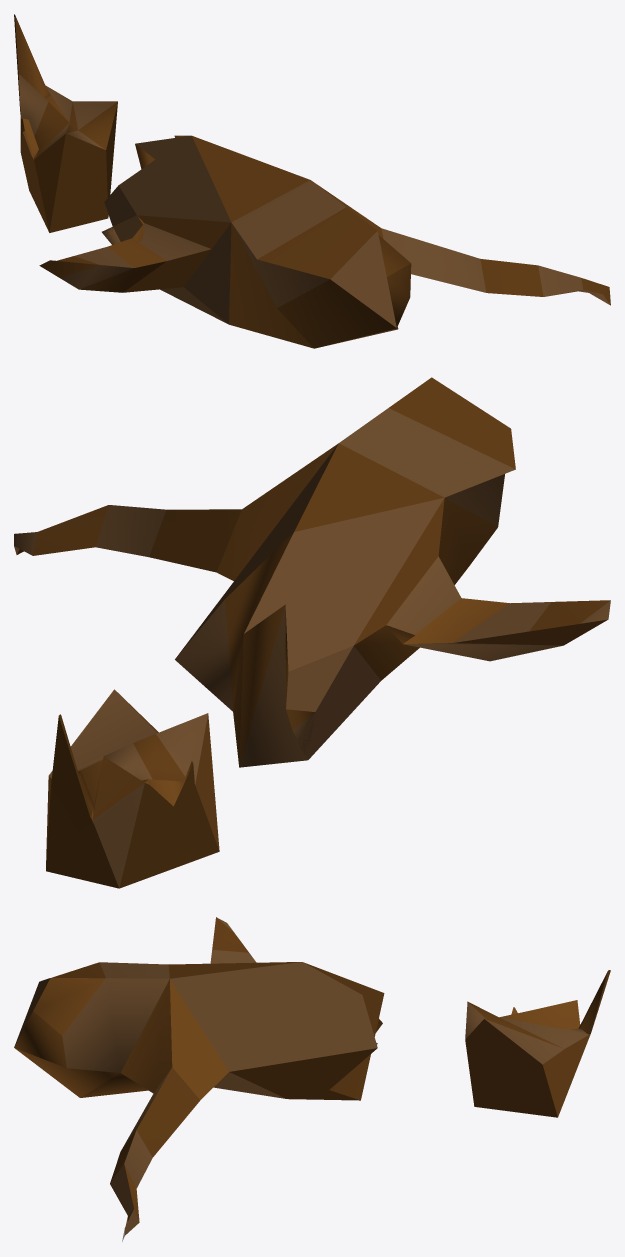
File: bear_tree.fbx
3 views of the same model, one above another, from view 1: azimuth 30°, elevation 25°; view 2: azimuth 150°, elevation 25°; view 3: azimuth 270°, elevation 25° (orthographic). The views are drawn at different scales.
Parts seen in each view (by area): view 1: tree_top, tree_base; view 2: tree_top, tree_base; view 3: tree_top, tree_base.
Boxes of the visible parts, x1=… form: tree_top: x1=39, y1=135, x2=610, y2=348; tree_base: x1=14, y1=14, x2=117, y2=232; tree_top: x1=14, y1=377, x2=610, y2=767; tree_base: x1=46, y1=689, x2=219, y2=888; tree_top: x1=14, y1=917, x2=384, y2=1241; tree_base: x1=465, y1=970, x2=610, y2=1117.
Size of the model in its own units: 512 by 165 by 598.
